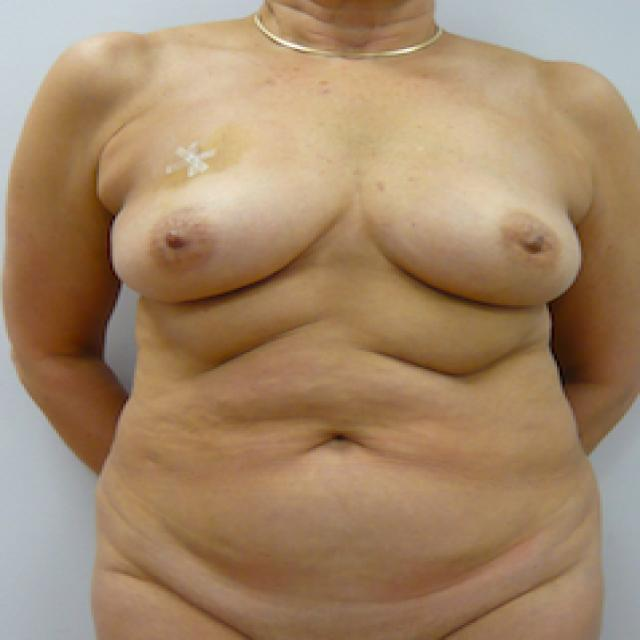Seno herido: (99, 109, 348, 326)
Seno ileso: (353, 109, 595, 326)
